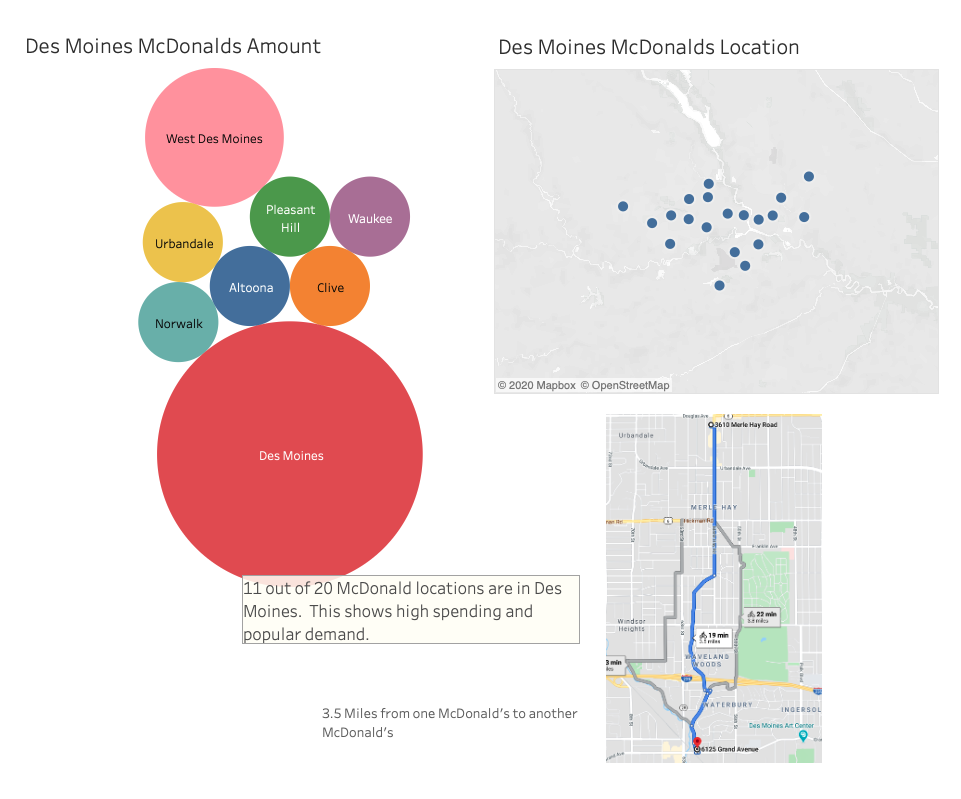

This screenshot's page, from the dashboard's own definition file:
{"tool":"tableau","page":{"name":"Des Moines McDonalds","canvas":[1000,800],"ordinal":2},"visuals":[{"type":"worksheet","title":"Des Moines McDonalds Amount","mark":"Circle","box":[6,41,529,528]},{"type":"worksheet","title":"Des Moines McDonalds Location","mark":"Automatic","rows":["latitude"],"cols":["longitude"],"box":[479,42,445,368]},{"type":"image","param":"/Users/Esther/Desktop/Screen Shot 2020-04-18 at 8.05.10 PM.png","box":[586,423,234,338]},{"type":"text","box":[307,720,266,36]}]}

Visuals, with their boxes on the page's 1000x800 design canvas (x1, y1, x2, y2). These are canvas units, not pixel positions in the 961x799 screenshot, which may show the page scaled, cropped or inside an application window:
"Des Moines McDonalds Amount" worksheet (Circle marks): box(6, 41, 535, 569)
"Des Moines McDonalds Location" worksheet: box(479, 42, 924, 410)
image: box(586, 423, 820, 761)
text: box(307, 720, 573, 756)
